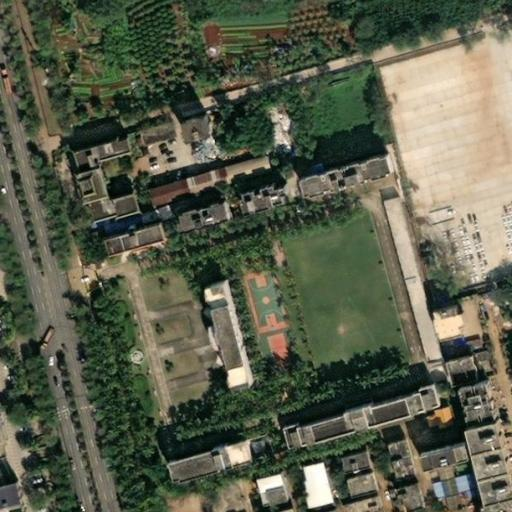building: (372, 189, 434, 358), (277, 386, 432, 446), (199, 275, 246, 380), (294, 151, 384, 195), (100, 222, 159, 254), (165, 439, 220, 473), (64, 130, 122, 160), (171, 201, 220, 234), (453, 387, 490, 430), (235, 186, 283, 216), (215, 151, 263, 181), (296, 458, 326, 505), (177, 163, 221, 193), (139, 175, 183, 204), (414, 440, 462, 464), (462, 423, 498, 455), (441, 349, 482, 377), (379, 440, 407, 480), (468, 447, 504, 478), (473, 470, 509, 501), (186, 129, 220, 161), (334, 444, 371, 473), (69, 154, 98, 188), (427, 310, 461, 339), (169, 92, 208, 116), (80, 190, 110, 220), (131, 124, 168, 148), (386, 481, 414, 512), (414, 254, 435, 292), (176, 113, 207, 138), (474, 492, 512, 512), (105, 190, 132, 216), (429, 464, 450, 496), (342, 483, 370, 506), (0, 470, 17, 507), (338, 468, 364, 489), (250, 471, 278, 490), (253, 485, 281, 503), (223, 435, 244, 458), (427, 405, 446, 428), (337, 500, 372, 512), (203, 330, 219, 355), (447, 475, 468, 494), (436, 492, 455, 512), (240, 430, 260, 448), (252, 503, 289, 512), (215, 441, 229, 461), (424, 482, 437, 500), (420, 467, 433, 484), (122, 245, 140, 257), (217, 74, 232, 88), (432, 287, 448, 298), (418, 414, 431, 427), (413, 243, 426, 254), (289, 463, 299, 475), (446, 335, 457, 345), (380, 486, 389, 496), (287, 474, 295, 484), (307, 508, 327, 512), (128, 140, 136, 150), (334, 481, 342, 490), (459, 491, 468, 499), (434, 345, 441, 352)
